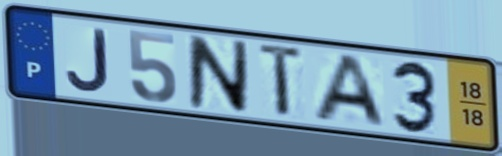3: (389, 59, 439, 136)
5: (125, 27, 177, 105)
A: (309, 53, 391, 130)
J: (63, 26, 113, 95)
N: (186, 33, 251, 117)
T: (256, 40, 307, 121)
